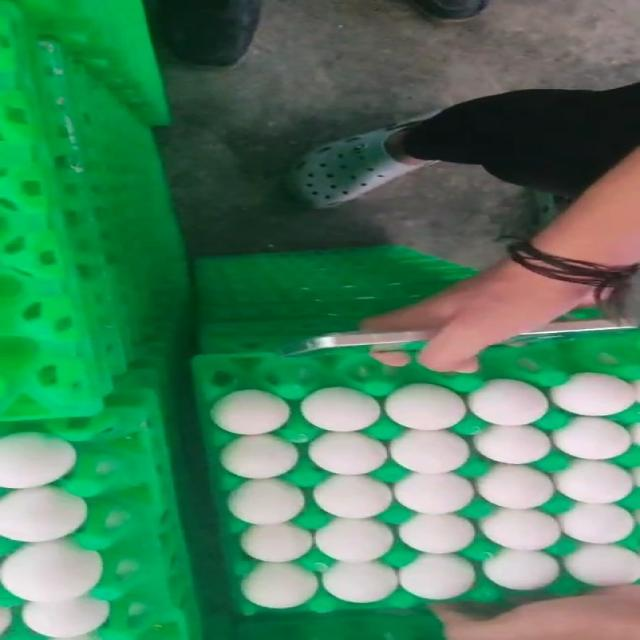egg_tray: (195, 351, 639, 612), (0, 2, 103, 419), (0, 407, 170, 639), (36, 41, 126, 395), (195, 246, 474, 334), (307, 332, 313, 336), (554, 379, 560, 381), (556, 376, 558, 379), (84, 105, 86, 107), (523, 375, 525, 376), (513, 349, 514, 350)
